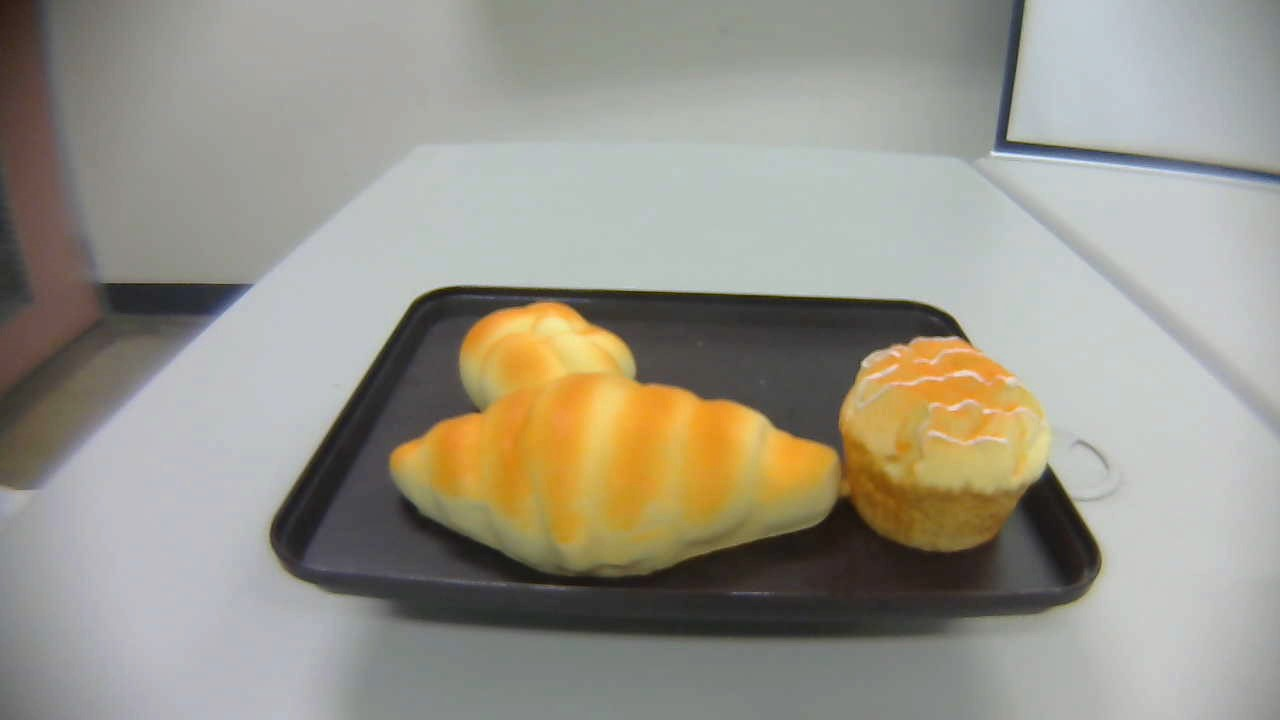croissant: (387, 374, 851, 581)
cupcake: (838, 333, 1051, 554)
twist bread: (457, 299, 638, 432)
